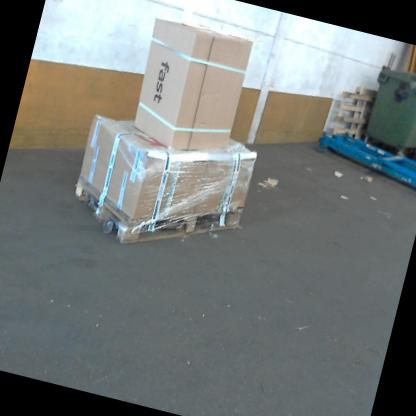pallet: (60, 159, 257, 277), (327, 81, 387, 153)
